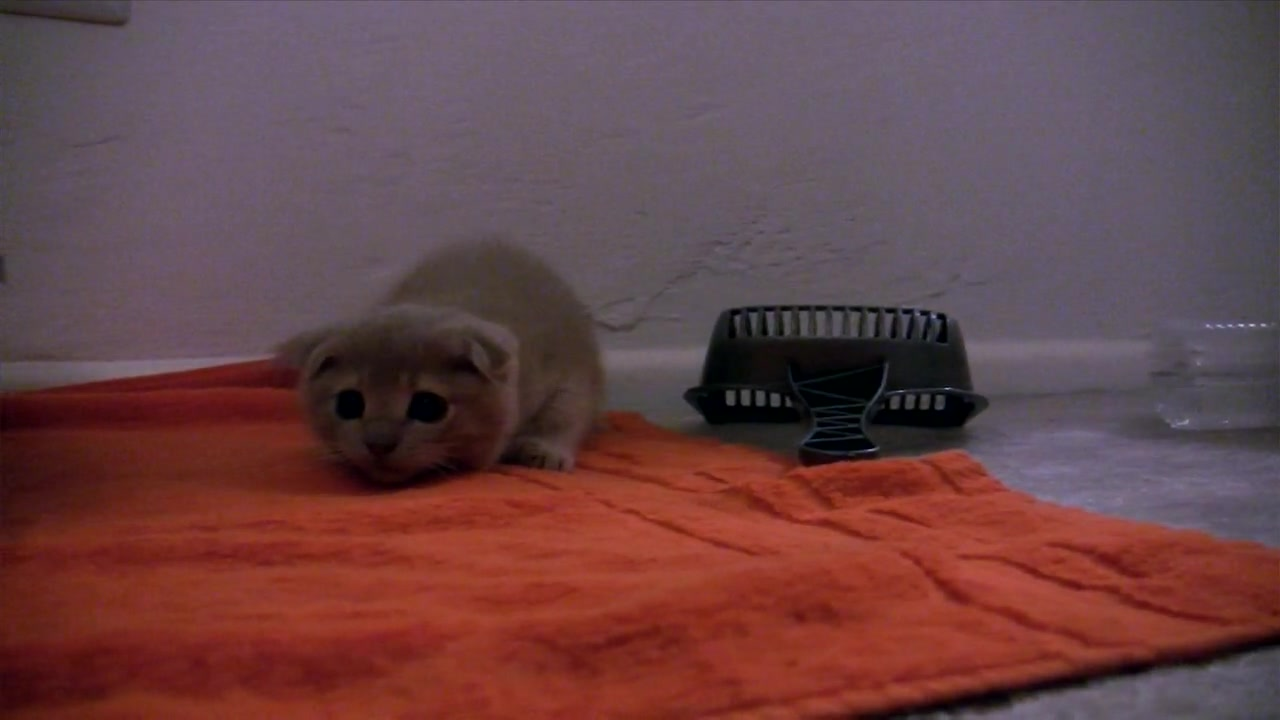cat: (271, 238, 608, 492)
